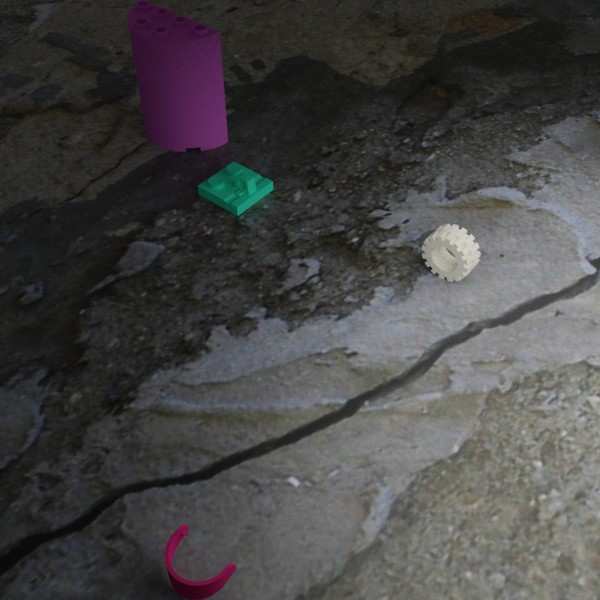lego: (127, 0, 228, 151), (164, 523, 236, 600), (197, 161, 273, 215), (421, 223, 480, 281)
